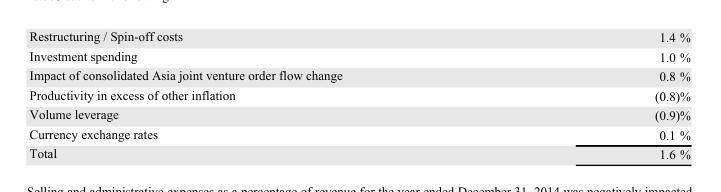table: (28, 28, 689, 161)
table column: (28, 28, 497, 161), (497, 28, 689, 161)
table row: (28, 65, 689, 85), (28, 104, 689, 124), (28, 46, 689, 65), (28, 85, 689, 104), (28, 124, 689, 143), (28, 28, 689, 46), (28, 143, 689, 161)
